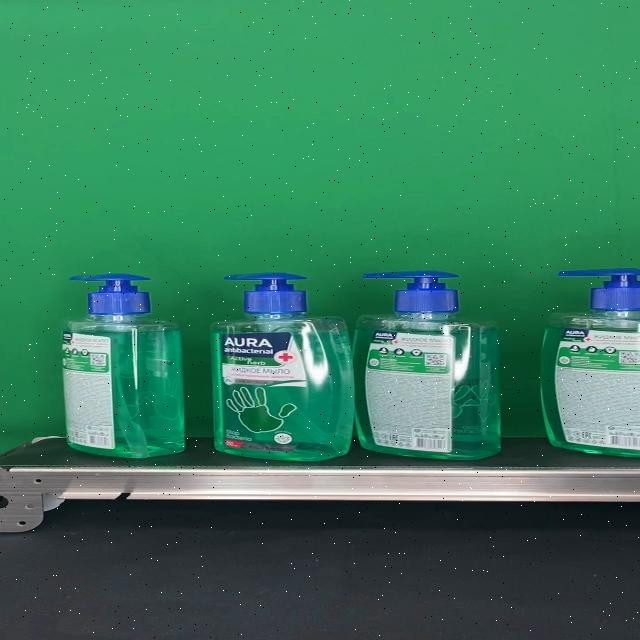Bottle: (349, 270, 501, 460), (209, 272, 354, 461), (61, 273, 185, 458)
Cap: (363, 271, 463, 313), (223, 272, 308, 314), (70, 273, 152, 314)
